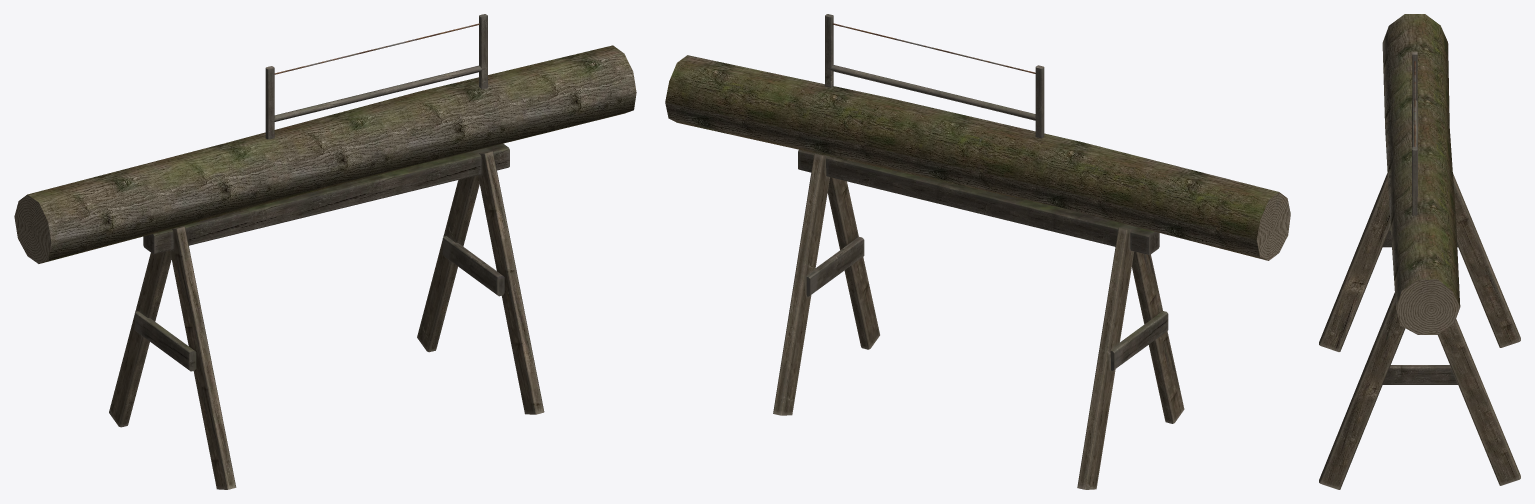
File: sawhorse.glb
3 views of the same model, side by side, from view 1: azimuth 30°, elevation 25°; view 2: azimuth 150°, elevation 25°; view 3: azimuth 270°, elevation 25° (orthographic). The views are drawn at different scales.
Visible parts, largest first — view 1: sawhorse; view 2: sawhorse; view 3: sawhorse.
Part boxes in pixels (<box>): sawhorse: <box>14,14,636,489</box>; sawhorse: <box>665,14,1290,489</box>; sawhorse: <box>1319,14,1520,489</box>.
Size of the model in its own units: 2.51 by 1.49 by 0.8046.
1 material, 1 textured.
